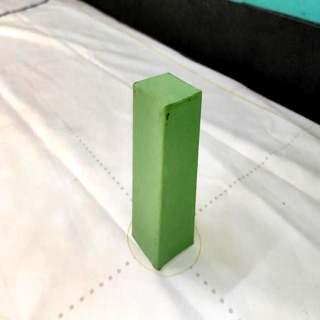greenbox: (131, 71, 203, 272)
